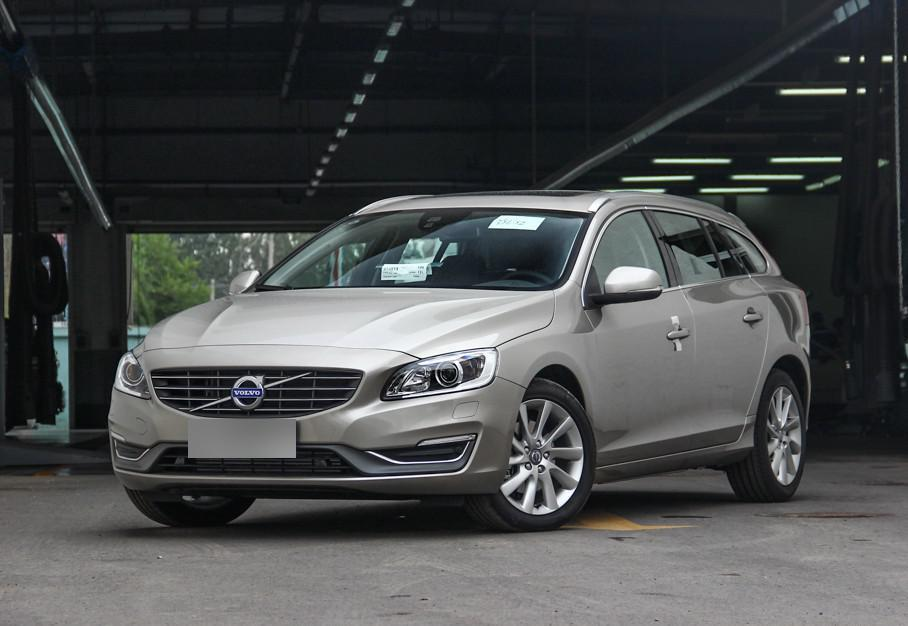Wagon: (106, 189, 813, 534)
